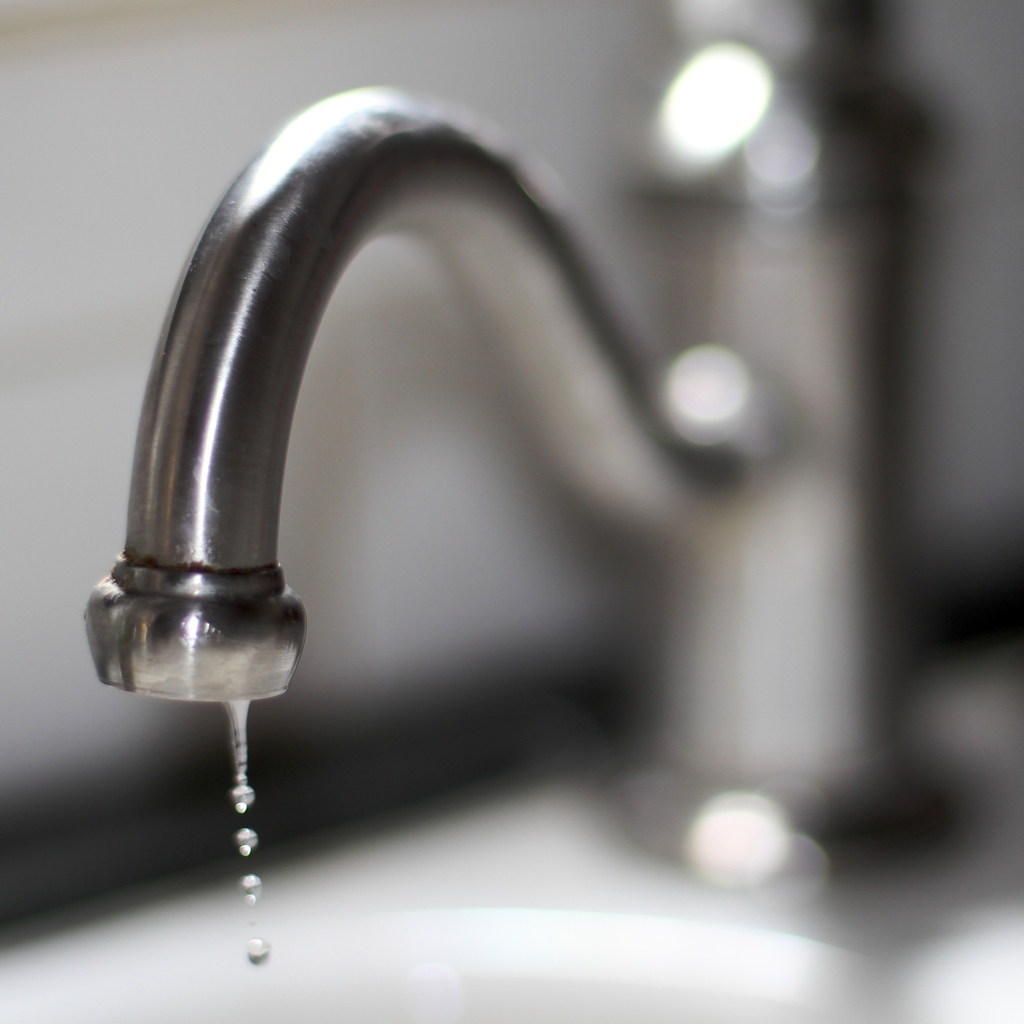tap: (85, 0, 975, 896)
